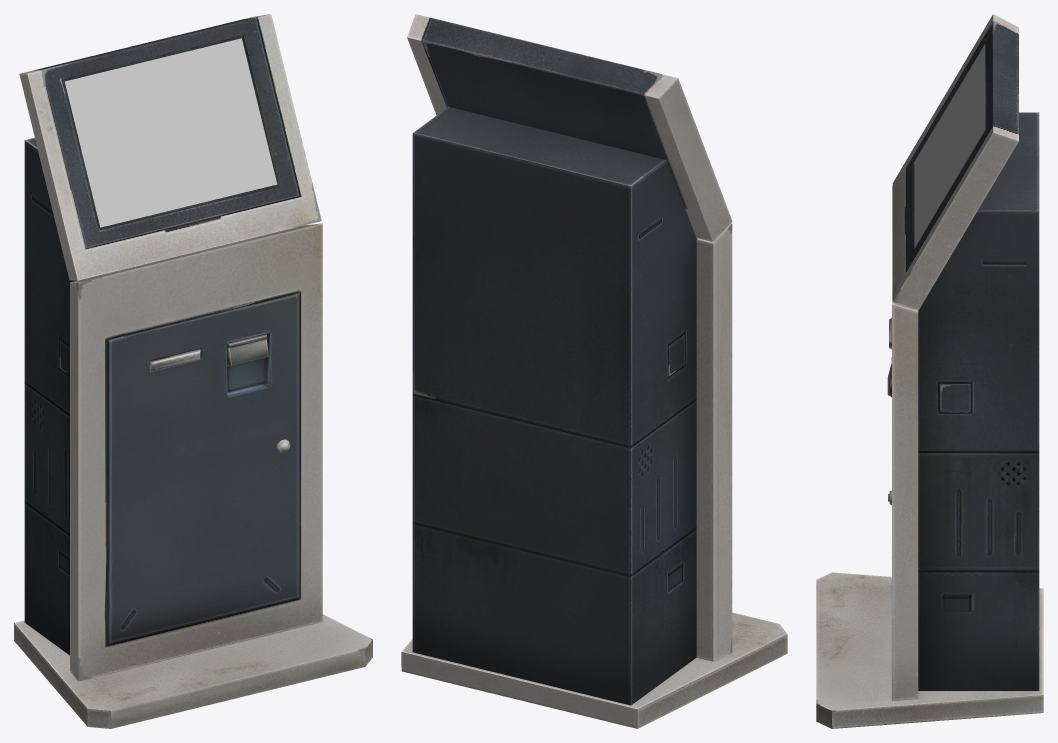
File: terminal_waitroom.dae
3 renders of one model, left to right at view 1: azimuth 30°, elevation 25°; view 2: azimuth 150°, elevation 25°; view 3: azimuth 270°, elevation 25°, orthographic. The views are drawn at different scales.
Visible parts, largest first — view 1: terminal_waitroom__2_, terminal_screen; view 2: terminal_waitroom__2_; view 3: terminal_waitroom__2_, terminal_screen.
Boxes of the visible parts, x1,y1,x2,y2 form: terminal_waitroom__2_: (14, 14, 372, 728); terminal_screen: (64, 38, 277, 227); terminal_waitroom__2_: (401, 14, 787, 728); terminal_waitroom__2_: (816, 14, 1043, 728); terminal_screen: (914, 44, 985, 248).
Size of the model in its own units: 3.04 by 6 by 2.11.
